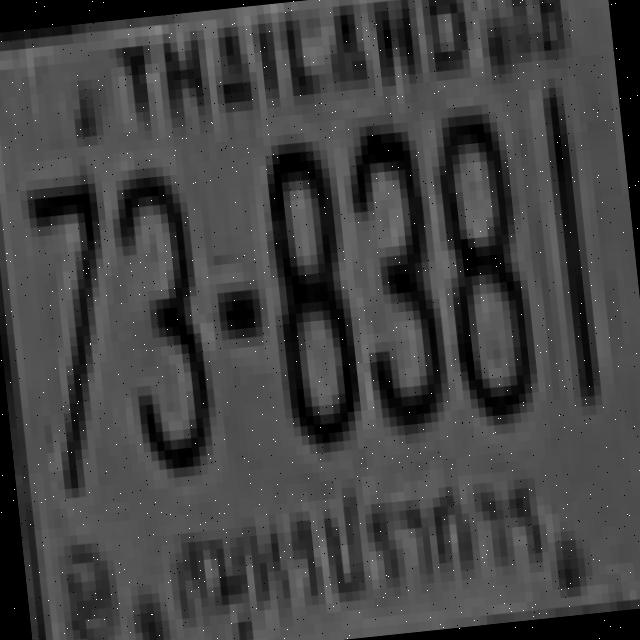3: (107, 164, 214, 471), (338, 122, 444, 428)
7: (19, 174, 126, 481), (19, 173, 120, 434), (18, 173, 118, 406)
8: (426, 102, 534, 419), (256, 134, 363, 442)
SamutPrakan: (152, 456, 560, 640)
